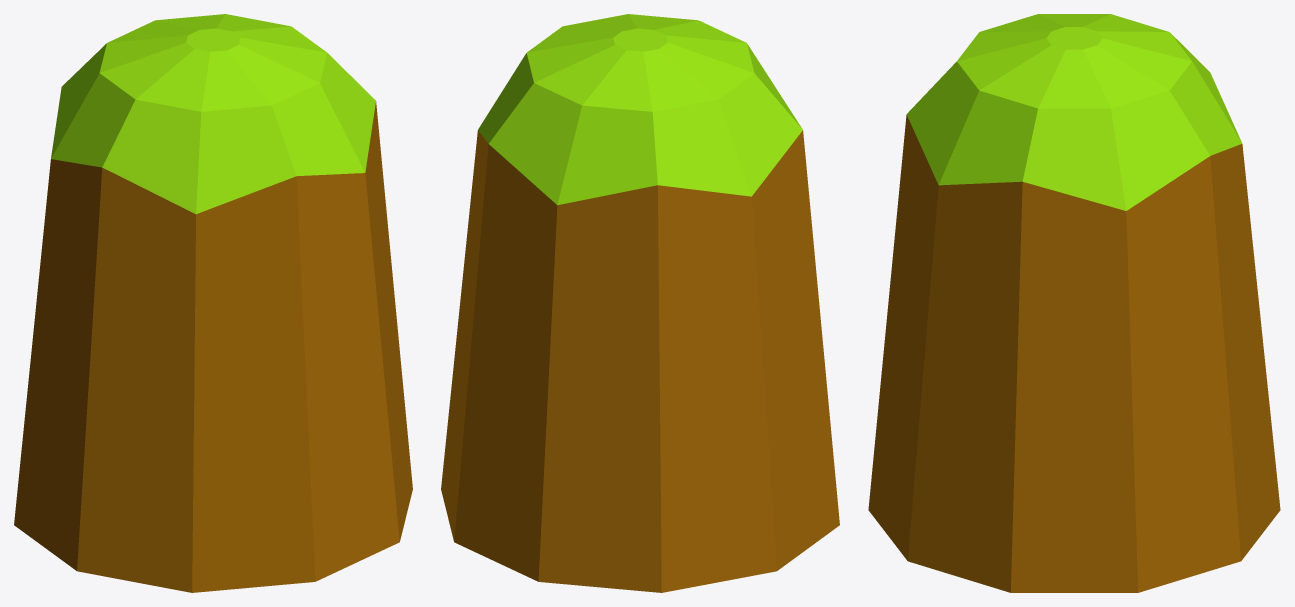
Rendered from Mountain.fbx.
The picture shows the model from 3 angles, left to right: view 1: azimuth 30°, elevation 25°; view 2: azimuth 150°, elevation 25°; view 3: azimuth 270°, elevation 25°; orthographic projection.
Parts seen in each view (by area): view 1: Cylinder.001; view 2: Cylinder.001; view 3: Cylinder.001.
Boxes of the visible parts, box(x1,y1,x2,y2) form: Cylinder.001: box(14, 14, 412, 592); Cylinder.001: box(441, 14, 839, 592); Cylinder.001: box(868, 14, 1280, 592).
Size of the model in its own units: 233 by 310 by 245.
